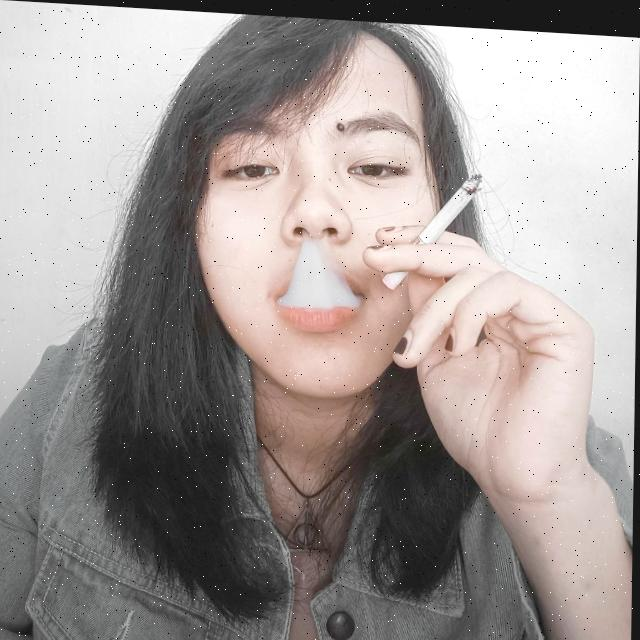cigarette: (382, 163, 483, 290)
